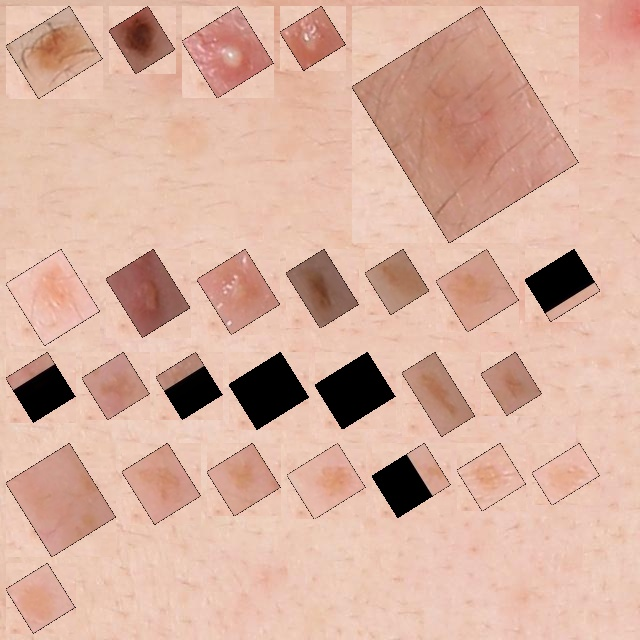melasma: (363, 17, 567, 232), (17, 454, 105, 546), (17, 260, 89, 334), (447, 260, 508, 321), (133, 454, 190, 513), (240, 363, 298, 418), (326, 363, 384, 418), (413, 363, 464, 425), (298, 454, 354, 508), (383, 454, 440, 506), (536, 260, 589, 310), (218, 454, 269, 505), (17, 363, 64, 411), (17, 574, 64, 622), (468, 454, 515, 500), (93, 363, 138, 408), (167, 363, 211, 408), (543, 454, 589, 494), (376, 260, 418, 303), (492, 363, 531, 404)
nevus: (17, 17, 91, 87), (297, 260, 348, 317), (120, 17, 164, 63)
pustule: (193, 17, 262, 87), (117, 260, 179, 326), (208, 260, 269, 323), (291, 17, 334, 59)
